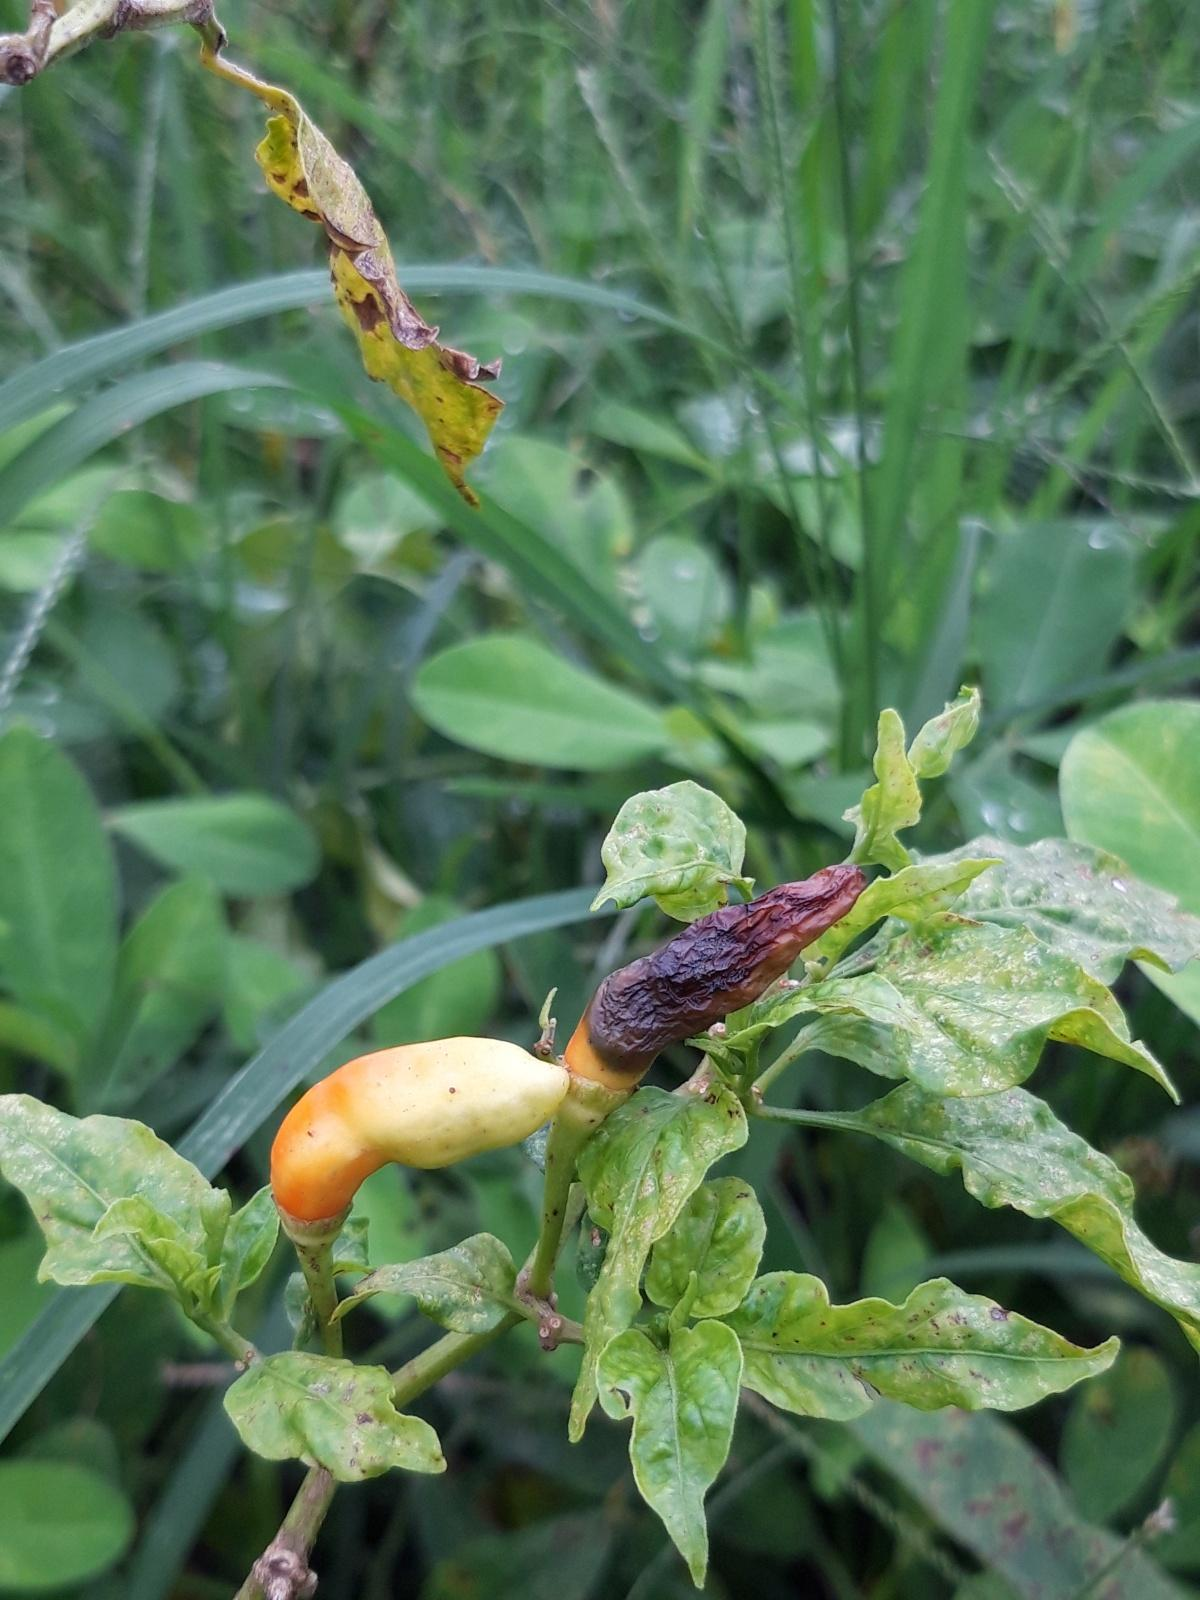antraknosa: (556, 856, 900, 1112)
cabai_normal: (270, 1036, 576, 1212)
